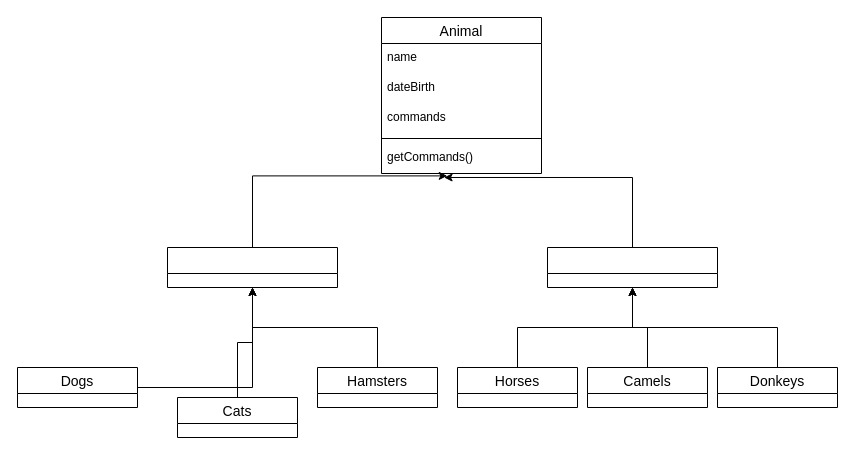
The diagram is 855 pixels wide and 455 high, and some of its shapes have lost their labels. Here are the shapes that lost their labels. From the top down, the centre of each, then its label:
(252,267): Pets
(632,267): PackAnimals
